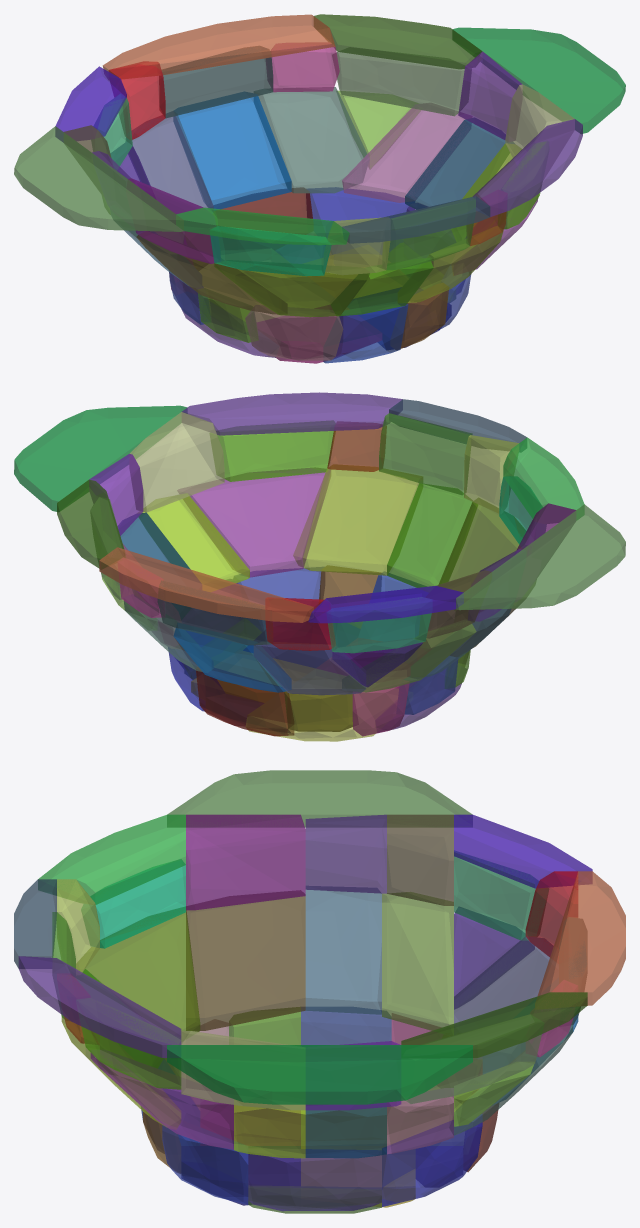
File: bowl.obj
3 views of the same model, one above another, from view 1: azimuth 30°, elevation 25°; view 2: azimuth 150°, elevation 25°; view 3: azimuth 270°, elevation 25° (orthographic). The views are drawn at different scales.
Parts seen in each view (by area): view 1: Shape_IndexedFaceSet.001_Shape_IndexedFaceSet.031, Shape_IndexedFaceSet.054_Shape_IndexedFaceSet.084, Shape_IndexedFaceSet_Shape_IndexedFaceSet.030, Shape_IndexedFaceSet.017_Shape_IndexedFaceSet.047, Shape_IndexedFaceSet.026_Shape_IndexedFaceSet.056, Shape_IndexedFaceSet.046_Shape_IndexedFaceSet.076, Shape_IndexedFaceSet.016_Shape_IndexedFaceSet.046, Shape_IndexedFaceSet.048_Shape_IndexedFaceSet.078, Shape_IndexedFaceSet.034_Shape_IndexedFaceSet.064, Shape_IndexedFaceSet.031_Shape_IndexedFaceSet.061, Shape_IndexedFaceSet.045_Shape_IndexedFaceSet.075, Shape_IndexedFaceSet.022_Shape_IndexedFaceSet.052 (+42 smaller); view 2: Shape_IndexedFaceSet.038_Shape_IndexedFaceSet.068, Shape_IndexedFaceSet.036_Shape_IndexedFaceSet.066, Shape_IndexedFaceSet.001_Shape_IndexedFaceSet.031, Shape_IndexedFaceSet_Shape_IndexedFaceSet.030, Shape_IndexedFaceSet.037_Shape_IndexedFaceSet.067, Shape_IndexedFaceSet.026_Shape_IndexedFaceSet.056, Shape_IndexedFaceSet.040_Shape_IndexedFaceSet.070, Shape_IndexedFaceSet.035_Shape_IndexedFaceSet.065, Shape_IndexedFaceSet.021_Shape_IndexedFaceSet.051, Shape_IndexedFaceSet.005_Shape_IndexedFaceSet.035, Shape_IndexedFaceSet.039_Shape_IndexedFaceSet.069, Shape_IndexedFaceSet.055_Shape_IndexedFaceSet.085 (+44 smaller); view 3: Shape_IndexedFaceSet.001_Shape_IndexedFaceSet.031, Shape_IndexedFaceSet.033_Shape_IndexedFaceSet.063, Shape_IndexedFaceSet_Shape_IndexedFaceSet.030, Shape_IndexedFaceSet.051_Shape_IndexedFaceSet.081, Shape_IndexedFaceSet.034_Shape_IndexedFaceSet.064, Shape_IndexedFaceSet.041_Shape_IndexedFaceSet.071, Shape_IndexedFaceSet.042_Shape_IndexedFaceSet.072, Shape_IndexedFaceSet.026_Shape_IndexedFaceSet.056, Shape_IndexedFaceSet.040_Shape_IndexedFaceSet.070, Shape_IndexedFaceSet.019_Shape_IndexedFaceSet.049, Shape_IndexedFaceSet.032_Shape_IndexedFaceSet.062, Shape_IndexedFaceSet.037_Shape_IndexedFaceSet.067 (+43 smaller).
Part boxes in pixels (x1,y1,x2,y2): Shape_IndexedFaceSet.001_Shape_IndexedFaceSet.031: [452, 27, 625, 133]; Shape_IndexedFaceSet.054_Shape_IndexedFaceSet.084: [173, 92, 291, 209]; Shape_IndexedFaceSet_Shape_IndexedFaceSet.030: [14, 126, 183, 231]; Shape_IndexedFaceSet.017_Shape_IndexedFaceSet.047: [254, 87, 369, 193]; Shape_IndexedFaceSet.026_Shape_IndexedFaceSet.056: [102, 14, 335, 79]; Shape_IndexedFaceSet.046_Shape_IndexedFaceSet.076: [342, 103, 471, 202]; Shape_IndexedFaceSet.016_Shape_IndexedFaceSet.046: [332, 47, 471, 116]; Shape_IndexedFaceSet.048_Shape_IndexedFaceSet.078: [314, 14, 482, 69]; Shape_IndexedFaceSet.034_Shape_IndexedFaceSet.064: [214, 260, 369, 317]; Shape_IndexedFaceSet.031_Shape_IndexedFaceSet.061: [159, 46, 273, 118]; Shape_IndexedFaceSet.045_Shape_IndexedFaceSet.075: [405, 118, 514, 210]; Shape_IndexedFaceSet.022_Shape_IndexedFaceSet.052: [126, 111, 213, 213]; Shape_IndexedFaceSet.038_Shape_IndexedFaceSet.068: [177, 468, 330, 577]; Shape_IndexedFaceSet.036_Shape_IndexedFaceSet.066: [293, 465, 422, 575]; Shape_IndexedFaceSet.001_Shape_IndexedFaceSet.031: [14, 405, 186, 511]; Shape_IndexedFaceSet_Shape_IndexedFaceSet.030: [456, 504, 625, 610]; Shape_IndexedFaceSet.037_Shape_IndexedFaceSet.067: [182, 392, 402, 435]; Shape_IndexedFaceSet.026_Shape_IndexedFaceSet.056: [99, 547, 313, 622]; Shape_IndexedFaceSet.040_Shape_IndexedFaceSet.070: [129, 412, 224, 512]; Shape_IndexedFaceSet.035_Shape_IndexedFaceSet.065: [387, 483, 477, 591]; Shape_IndexedFaceSet.021_Shape_IndexedFaceSet.051: [210, 420, 335, 481]; Shape_IndexedFaceSet.005_Shape_IndexedFaceSet.035: [246, 669, 398, 741]; Shape_IndexedFaceSet.039_Shape_IndexedFaceSet.069: [138, 494, 249, 591]; Shape_IndexedFaceSet.055_Shape_IndexedFaceSet.085: [379, 413, 472, 495]; Shape_IndexedFaceSet.001_Shape_IndexedFaceSet.031: [167, 1045, 472, 1104]; Shape_IndexedFaceSet.033_Shape_IndexedFaceSet.063: [186, 890, 305, 1030]; Shape_IndexedFaceSet_Shape_IndexedFaceSet.030: [167, 770, 472, 827]; Shape_IndexedFaceSet.051_Shape_IndexedFaceSet.081: [186, 814, 305, 910]; Shape_IndexedFaceSet.034_Shape_IndexedFaceSet.064: [76, 907, 200, 1040]; Shape_IndexedFaceSet.041_Shape_IndexedFaceSet.071: [305, 886, 381, 1014]; Shape_IndexedFaceSet.042_Shape_IndexedFaceSet.072: [382, 892, 453, 1034]; Shape_IndexedFaceSet.026_Shape_IndexedFaceSet.056: [535, 871, 625, 1009]; Shape_IndexedFaceSet.040_Shape_IndexedFaceSet.070: [181, 1031, 305, 1110]; Shape_IndexedFaceSet.019_Shape_IndexedFaceSet.049: [248, 1149, 381, 1211]; Shape_IndexedFaceSet.032_Shape_IndexedFaceSet.062: [38, 814, 185, 904]; Shape_IndexedFaceSet.037_Shape_IndexedFaceSet.067: [18, 956, 181, 1057].
Size of the model in its own units: 0.3964 by 0.1296 by 0.3191.
